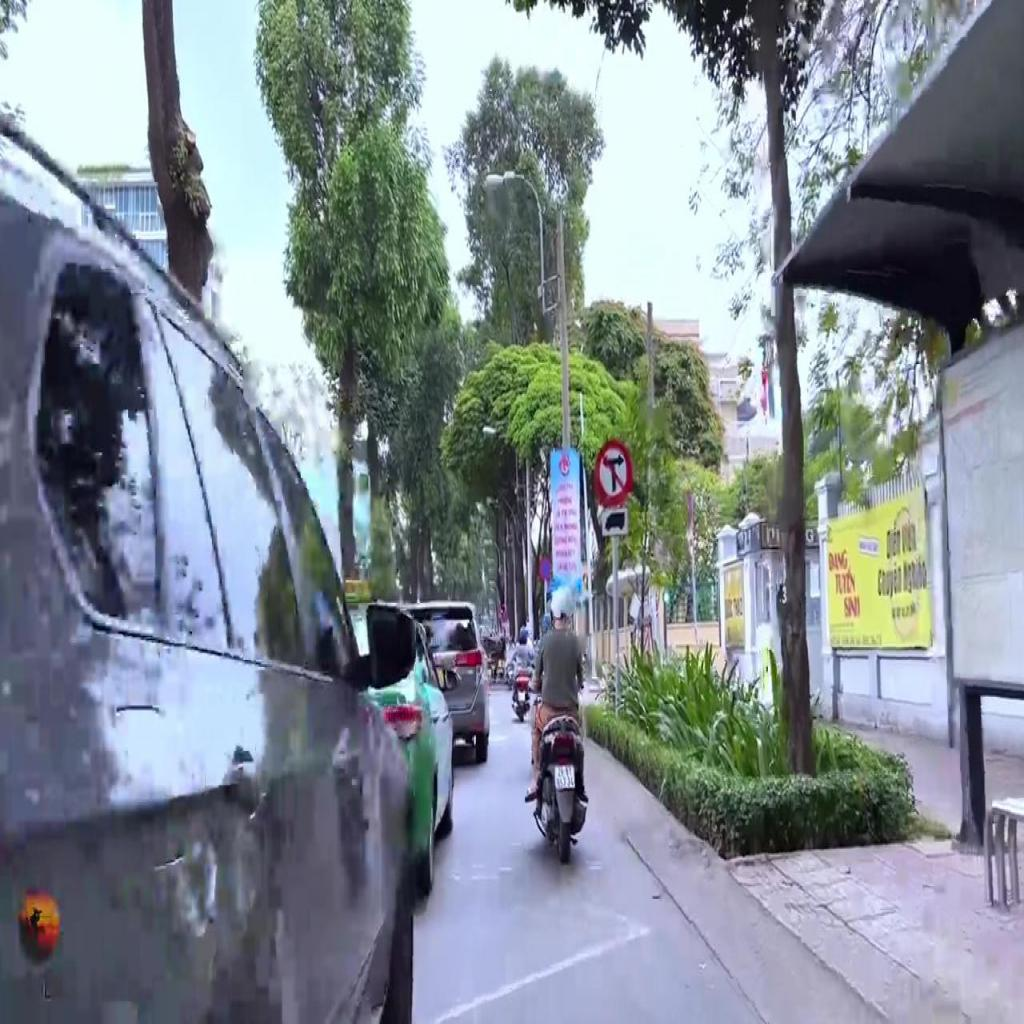cam_re_trai_va_phai: (595, 438, 634, 508)
khac: (600, 505, 627, 535)
